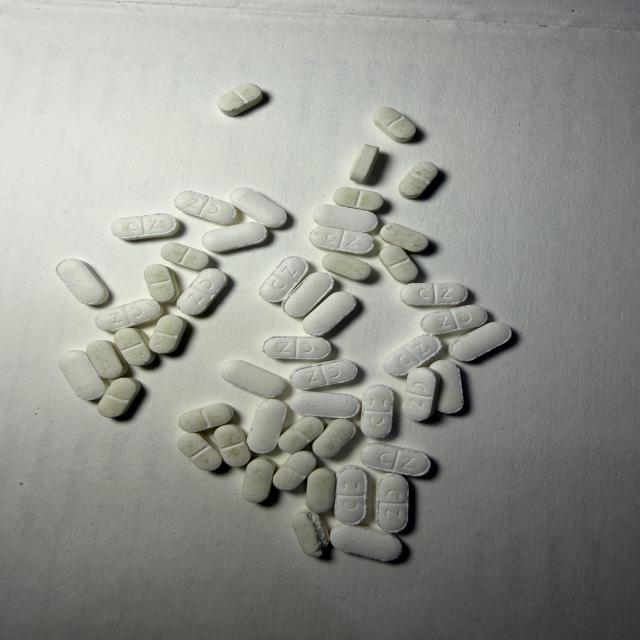pill: (331, 526, 402, 561), (221, 360, 285, 398), (383, 335, 442, 376), (59, 350, 108, 399), (57, 259, 109, 305), (450, 322, 511, 361), (360, 443, 431, 476), (282, 272, 334, 317), (303, 292, 356, 336), (177, 269, 227, 315), (230, 188, 286, 228), (260, 256, 308, 302), (96, 299, 162, 331), (247, 400, 286, 453), (290, 359, 357, 389), (175, 191, 237, 223), (334, 465, 367, 525), (202, 222, 267, 252), (421, 305, 487, 334), (402, 368, 438, 421), (376, 474, 408, 533), (290, 392, 359, 418), (361, 384, 394, 438), (313, 205, 378, 232), (430, 360, 463, 413), (112, 214, 179, 240), (310, 227, 373, 254), (293, 510, 329, 557), (273, 451, 316, 490), (278, 417, 324, 453), (98, 378, 140, 417), (178, 433, 222, 470), (86, 341, 128, 379), (313, 419, 355, 457), (213, 424, 250, 466), (114, 328, 155, 365), (179, 404, 233, 432), (263, 337, 331, 359), (400, 283, 467, 305), (243, 457, 275, 503), (373, 107, 415, 142), (149, 315, 187, 353), (218, 84, 262, 116), (399, 162, 438, 198), (380, 246, 418, 282), (380, 224, 428, 252), (306, 467, 335, 513), (160, 243, 209, 270), (322, 253, 371, 280), (144, 265, 178, 302), (334, 188, 383, 211), (350, 145, 379, 182)
